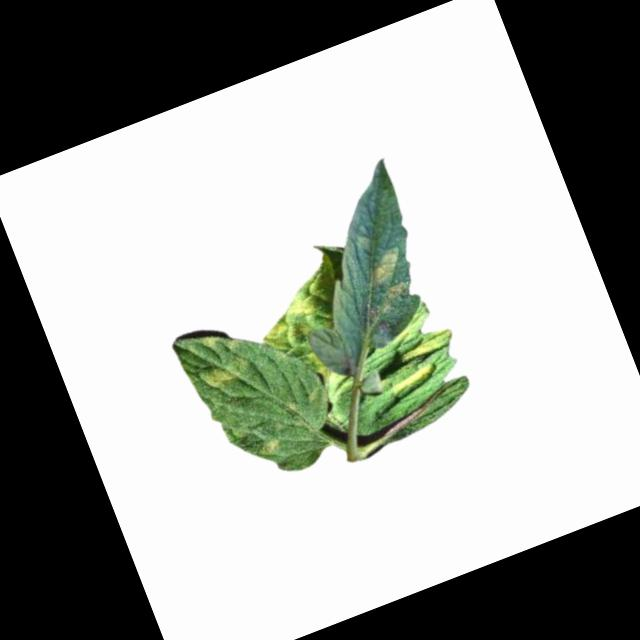Leaf_Mold: (246, 281, 356, 397), (393, 319, 459, 368), (196, 350, 258, 395), (385, 359, 442, 401), (363, 245, 408, 289), (255, 432, 285, 459)
